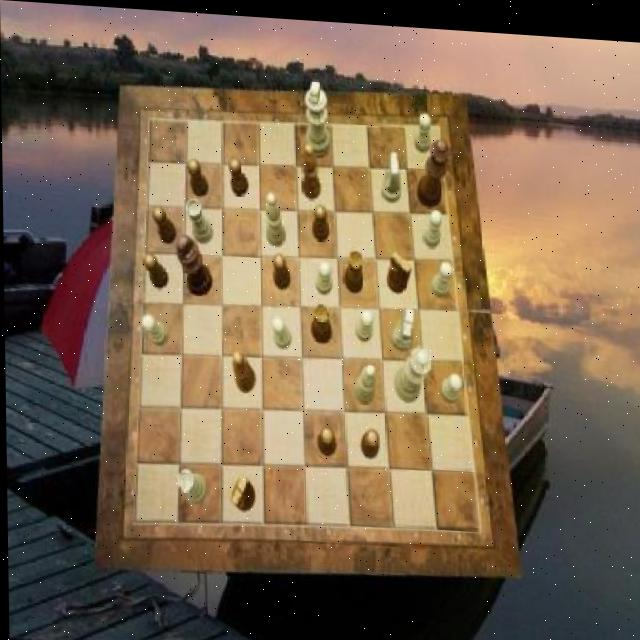bishop: (302, 140, 320, 197), (230, 349, 253, 390)
black-bishop: (176, 232, 212, 294)
black-king: (386, 245, 411, 289), (229, 470, 254, 509)
black-knight: (152, 205, 175, 242), (142, 251, 166, 286), (186, 156, 207, 194), (228, 155, 248, 194), (311, 199, 329, 238), (272, 250, 289, 286), (359, 425, 379, 455), (316, 423, 336, 453)
black-pawn: (415, 133, 451, 204)
black-queen: (343, 244, 363, 289), (309, 298, 330, 340)
black-rook: (264, 189, 284, 244), (351, 358, 375, 401)
white-bishop: (304, 75, 329, 153)
white-king: (380, 146, 401, 200), (390, 302, 413, 347)
white-knight: (429, 255, 452, 293), (141, 312, 168, 344), (422, 204, 441, 243), (438, 366, 460, 398), (353, 303, 373, 338), (414, 108, 431, 149), (270, 312, 290, 346), (313, 255, 331, 290)
white-pawn: (392, 340, 431, 398)
white-queen: (185, 196, 212, 241), (177, 466, 207, 502)
